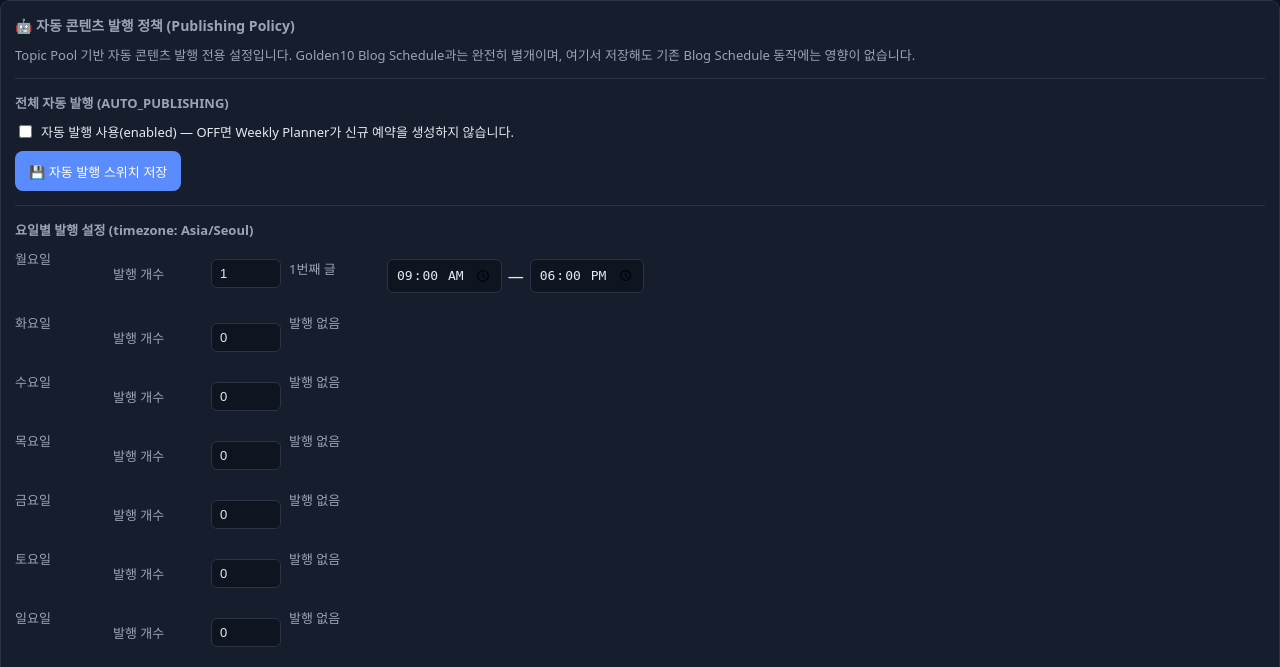
Test: PublishingPolicyPanel — per-post time_ranges (핵심 요구사항) › increasing mon count to 3 creates exactly 3 independent time_range rows
Check: the time field named "pp-mon-0-start" is shown, box 387,259 -> 502,293
Replace the text in the number field labelled "발행 개수" in the row of "번째 글" with "3" at [246, 274], box 211,259 -> 281,288
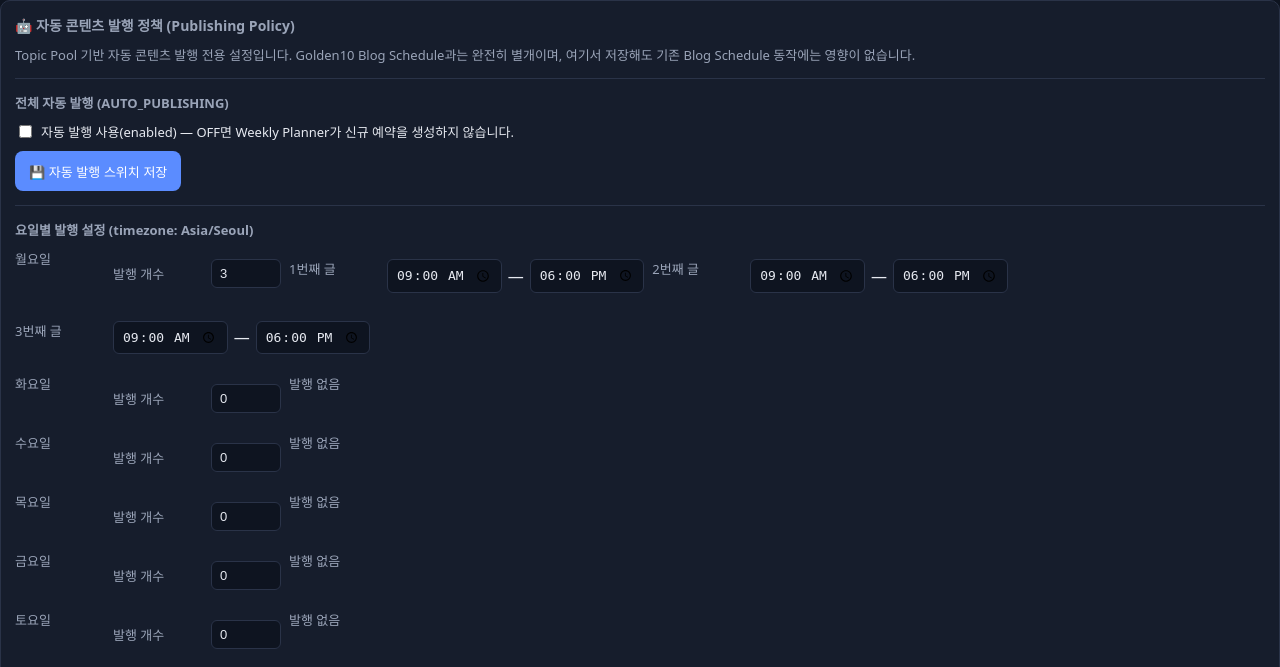
Check: the time field named "pp-mon-0-start" is shown, box 387,259 -> 502,293
Check: the time field named "pp-mon-2-start" is shown, box 113,321 -> 228,354
Check: the time field named "pp-mon-1-start" is shown, box 750,259 -> 865,293
